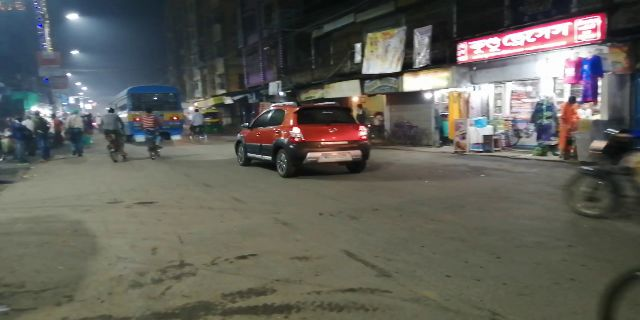Bus: (111, 84, 184, 145)
Car: (233, 100, 369, 178)
Cycle: (96, 105, 133, 165), (139, 107, 162, 163)
